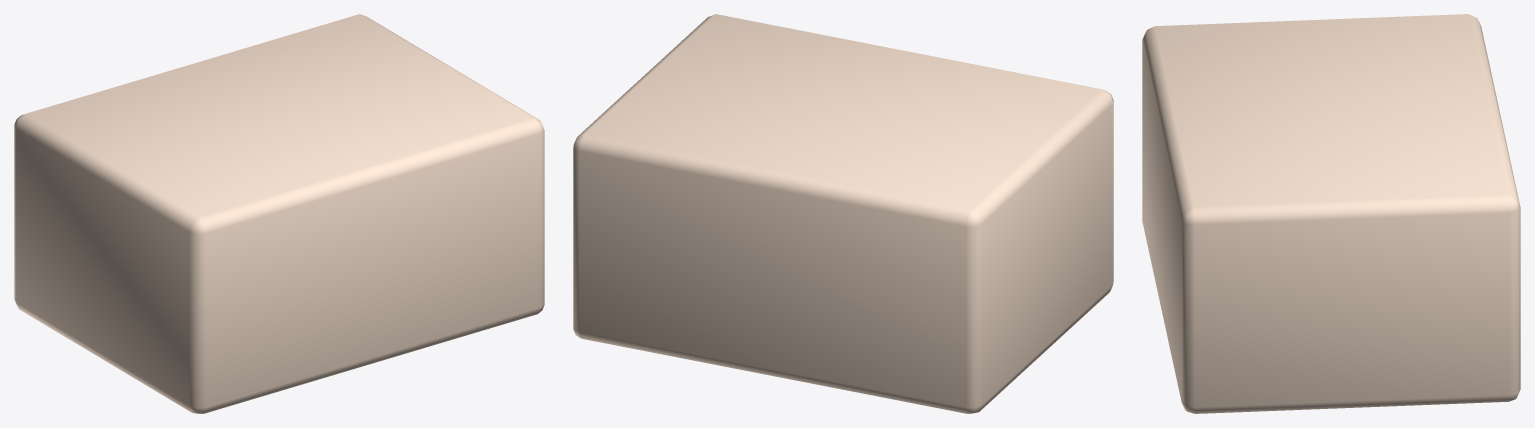
The model's file is motri-brick.glb.
3 renders of one model, left to right at view 1: azimuth 30°, elevation 25°; view 2: azimuth 150°, elevation 25°; view 3: azimuth 270°, elevation 25°, orthographic. The views are drawn at different scales.
Parts seen in each view (by area): view 1: Cube.042; view 2: Cube.042; view 3: Cube.042.
Boxes of the visible parts, x1,y1,x2,y2 form: Cube.042: [14, 14, 544, 413]; Cube.042: [573, 14, 1113, 413]; Cube.042: [1142, 14, 1520, 413].
Bounding box in the file's own units: 1.59 × 0.7529 × 1.25.
Materials: 1 (1 with a texture image).
